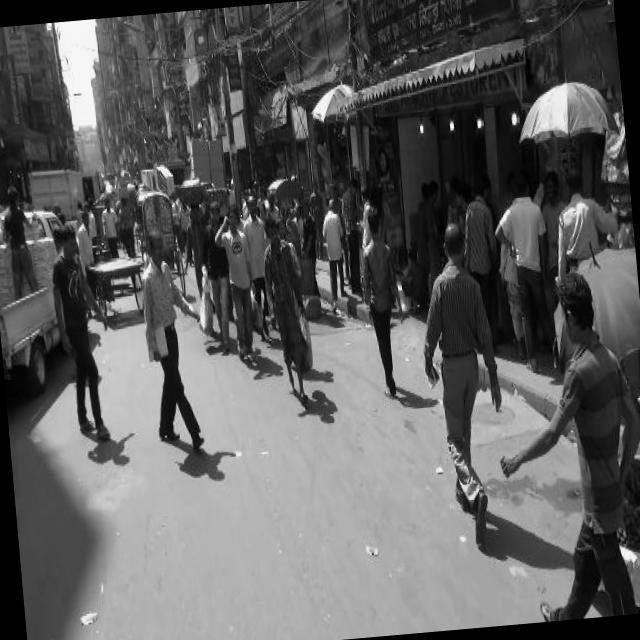motorcycle: (134, 190, 192, 300)
truck: (0, 199, 85, 393)
